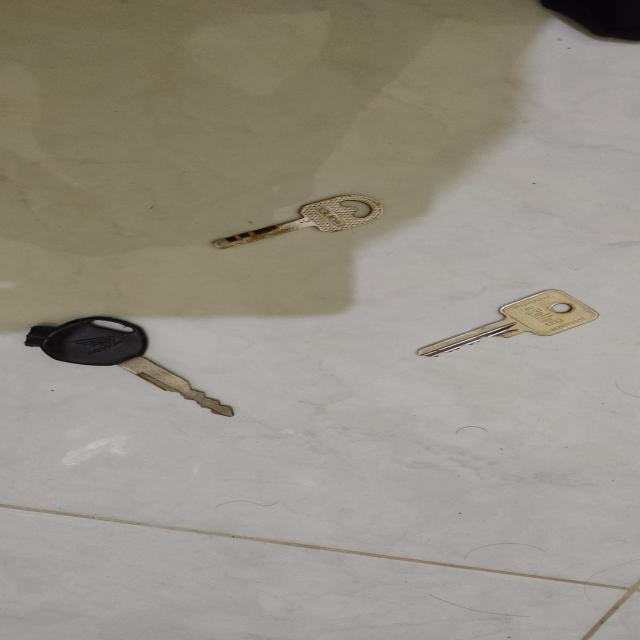kunci_kos: (391, 276, 619, 372)
kunci_motor: (8, 306, 259, 424)
kunci_pagar: (204, 186, 394, 262)
